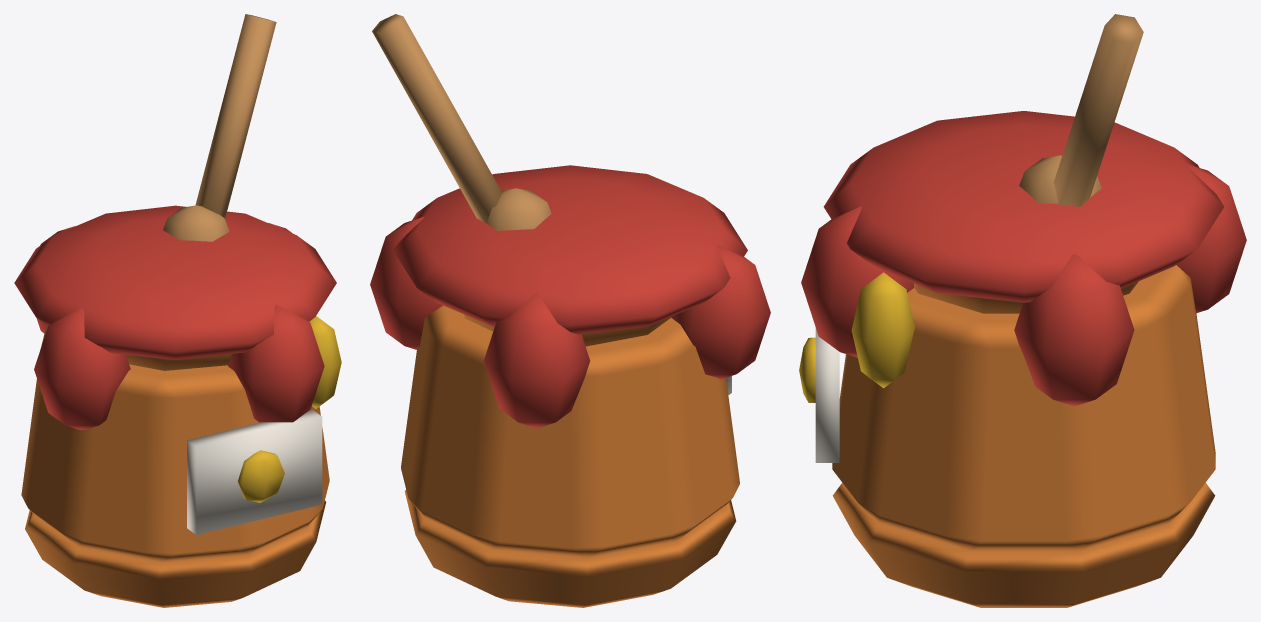
File: item_honey.glb
3 renders of one model, left to right at view 1: azimuth 30°, elevation 25°; view 2: azimuth 150°, elevation 25°; view 3: azimuth 270°, elevation 25°, orthographic. The views are drawn at different scales.
Visible parts, largest first — view 1: item_honey; view 2: item_honey; view 3: item_honey.
Boxes of the visible parts, x1,y1,x2,y2 form: item_honey: (14, 14, 341, 607); item_honey: (370, 14, 770, 607); item_honey: (799, 14, 1246, 607).
Size of the model in its own units: 0.2144 by 0.3346 by 0.2234.
